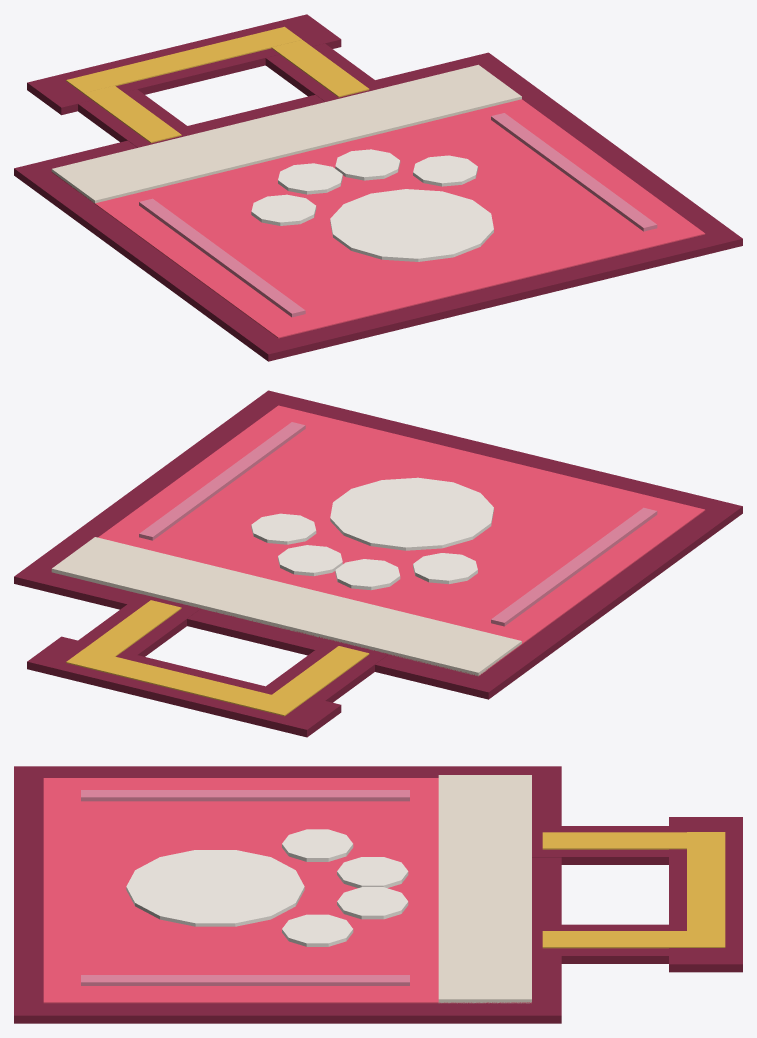
Rendered from CatCafe_Street_CornerShop_RingIcon_Decor.glb.
The picture shows the model from 3 angles, top to bottom: view 1: azimuth 30°, elevation 25°; view 2: azimuth 150°, elevation 25°; view 3: azimuth 270°, elevation 25°; orthographic projection. The views are drawn at different scales.
Parts seen in each view (by area): view 1: CatCafe_Street_CornerShop_RingIcon_Decor; view 2: CatCafe_Street_CornerShop_RingIcon_Decor; view 3: CatCafe_Street_CornerShop_RingIcon_Decor.
Part boxes in pixels (x1,y1,x2,y2): CatCafe_Street_CornerShop_RingIcon_Decor: (14, 14, 742, 361); CatCafe_Street_CornerShop_RingIcon_Decor: (14, 390, 742, 737); CatCafe_Street_CornerShop_RingIcon_Decor: (14, 766, 742, 1023).
Bounding box in the file's own units: 2.78 × 0.0664 × 3.43.
1 material, 1 textured.
